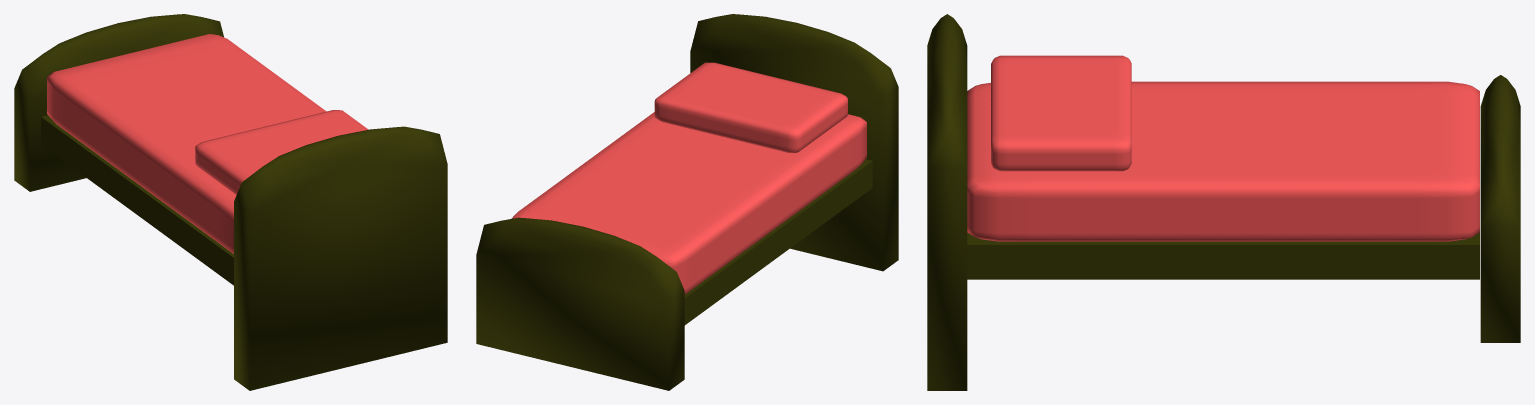
Rendered from cama.FBX.
3 views of the same model, side by side, from view 1: azimuth 30°, elevation 25°; view 2: azimuth 150°, elevation 25°; view 3: azimuth 270°, elevation 25° (orthographic). The views are drawn at different scales.
Parts seen in each view (by area): view 1: Box003, Box005, Box004, Box001, Box006; view 2: Box005, Box004, Box003, Box006, Box001; view 3: Box005, Box001, Box006, Box003, Box004.
Part boxes in pixels (x1,y1,x2,y2): Box003: [234, 126, 447, 390]; Box005: [47, 34, 326, 253]; Box004: [14, 14, 223, 191]; Box001: [41, 115, 233, 285]; Box006: [195, 110, 368, 194]; Box005: [511, 112, 866, 294]; Box004: [476, 217, 684, 390]; Box003: [690, 14, 898, 271]; Box006: [654, 62, 847, 152]; Box001: [684, 159, 872, 325]; Box005: [967, 81, 1479, 241]; Box001: [967, 232, 1479, 279]; Box006: [991, 55, 1131, 171]; Box003: [927, 14, 967, 390]; Box004: [1480, 75, 1520, 342].
Size of the model in its own units: 225 by 243 by 463.
